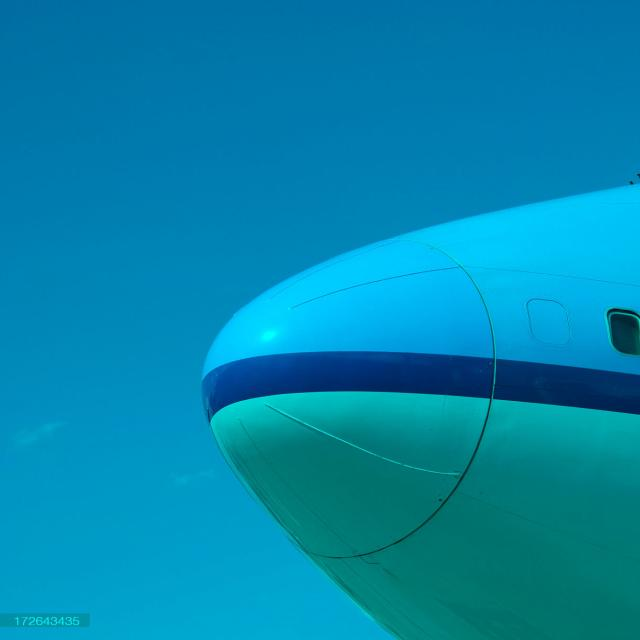Rupture: (358, 558, 384, 569)
